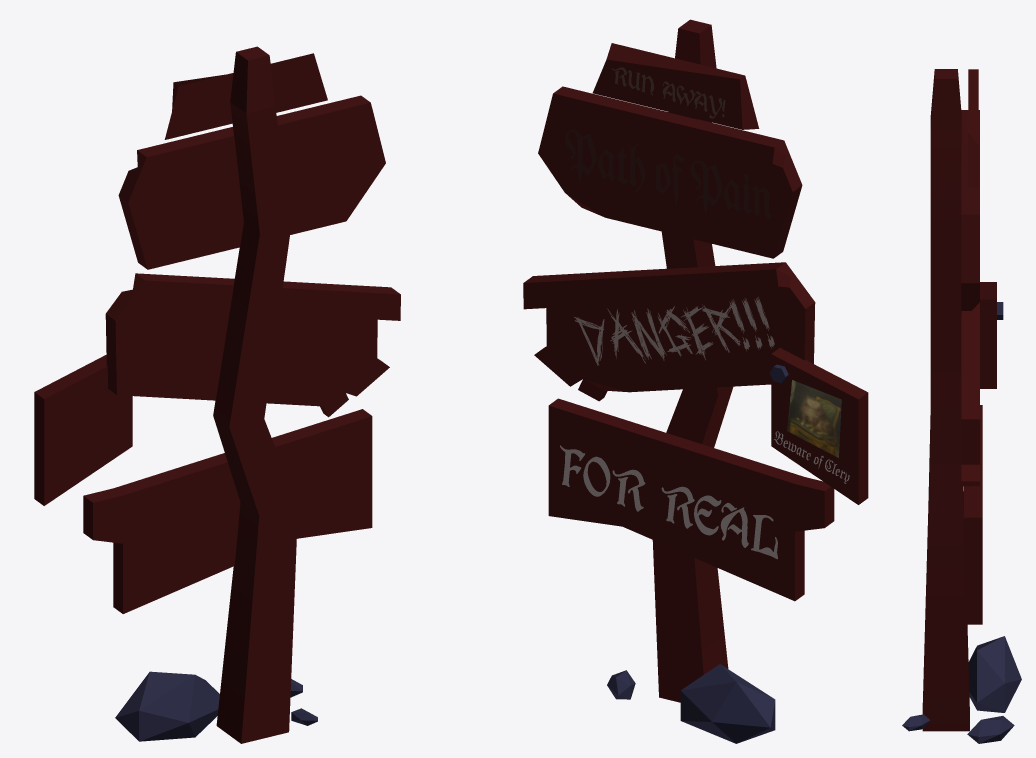
The model's file is panneaux_v01_texture.fbx.
3 views of the same model, side by side, from view 1: azimuth 30°, elevation 25°; view 2: azimuth 150°, elevation 25°; view 3: azimuth 270°, elevation 25° (orthographic). The views are drawn at different scales.
Parts seen in each view (by area): view 1: panneau_01; view 2: panneau_01; view 3: panneau_01.
Part boxes in pixels (<box>): panneau_01: <box>34,46,400,743</box>; panneau_01: <box>523,19,868,743</box>; panneau_01: <box>902,69,1021,743</box>.
Size of the model in its own units: 189 by 297 by 49.01.
Materials: 8 (8 with a texture image).
